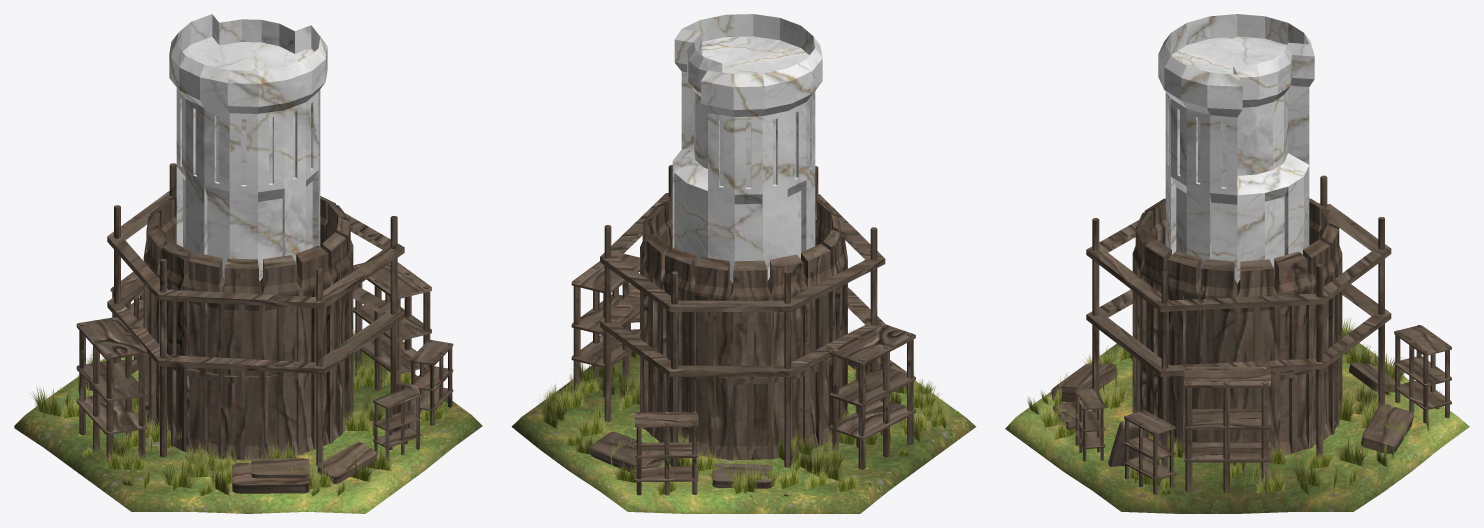
Rendered from hyperstructure_small.glb.
The picture shows the model from 3 angles, left to right: view 1: azimuth 30°, elevation 25°; view 2: azimuth 150°, elevation 25°; view 3: azimuth 270°, elevation 25°; orthographic projection.
Visible parts, largest first — view 1: hyperstructure; view 2: hyperstructure; view 3: hyperstructure.
Boxes of the visible parts, x1,y1,x2,y2 form: hyperstructure: (14,14,482,513); hyperstructure: (511,14,976,513); hyperstructure: (1005,14,1469,513).
Bounding box in the file's own units: 1.73 × 1.83 × 2.
Materials: 4 (4 with a texture image).
